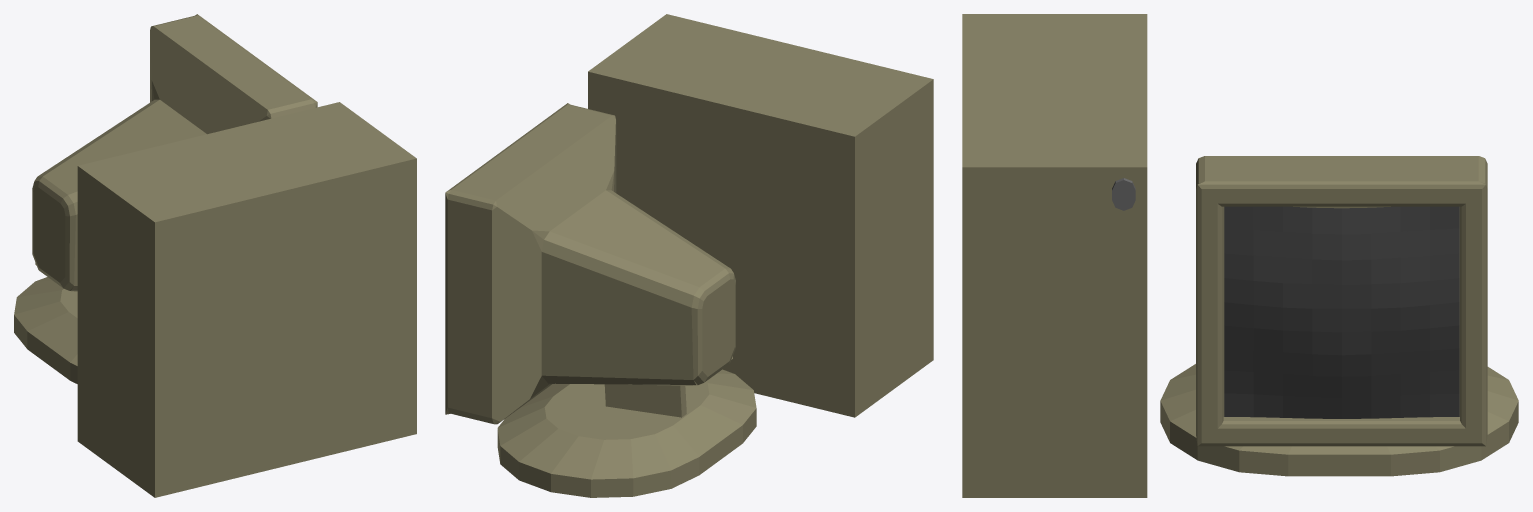
File: compu.fbx
3 views of the same model, side by side, from view 1: azimuth 30°, elevation 25°; view 2: azimuth 150°, elevation 25°; view 3: azimuth 270°, elevation 25° (orthographic). The views are drawn at different scales.
Parts seen in each view (by area): view 1: Cube.001; view 2: Cube.001; view 3: Cube.001, Plane.001.
Boxes of the visible parts, <box> form: Cube.001: <box>14,14,416,497</box>; Cube.001: <box>445,14,933,497</box>; Cube.001: <box>962,14,1518,497</box>; Plane.001: <box>1224,206,1459,418</box>.
Size of the model in its own units: 258 by 250 by 381.
